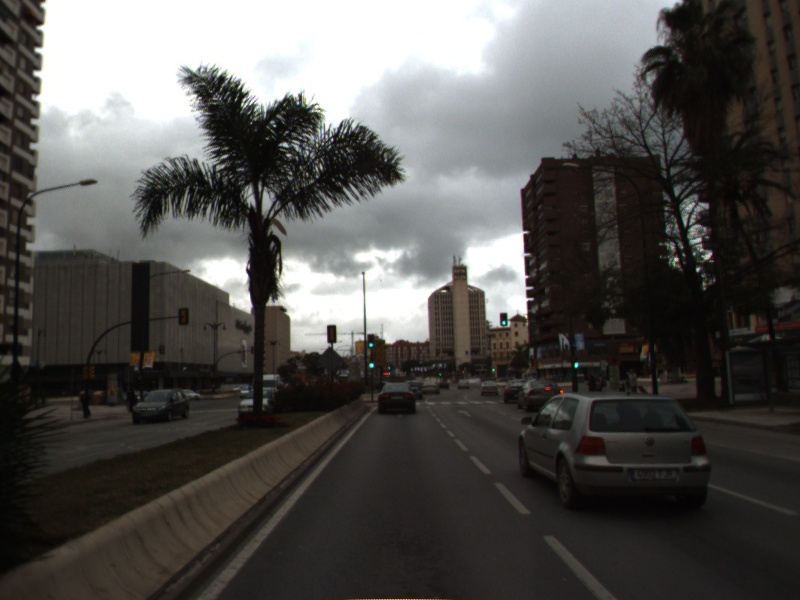STRAIGHT: (455, 407, 474, 419)
